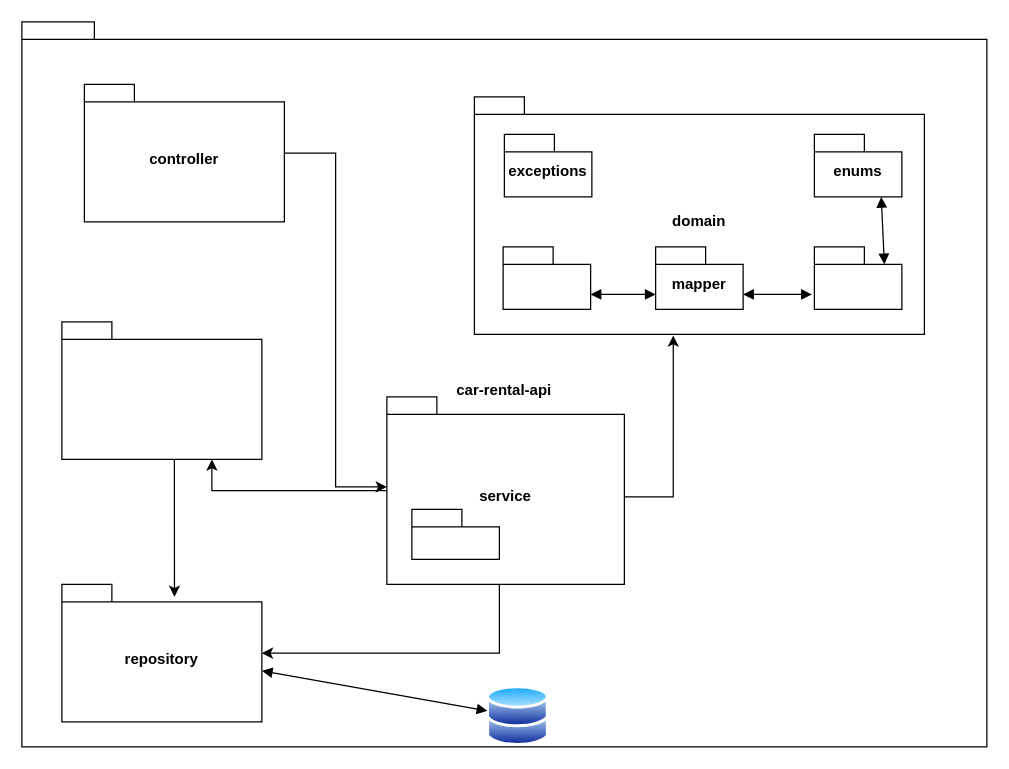
This 1009x769 diagram has some shape labels left out. The shapes that lost their labels are listed below. From the top down, each one's centre as x and y in pixels, then its label:
At point (546, 277): "dtos".
At point (857, 277): "models".
At point (161, 390): "security".
At point (455, 533): "imp".
